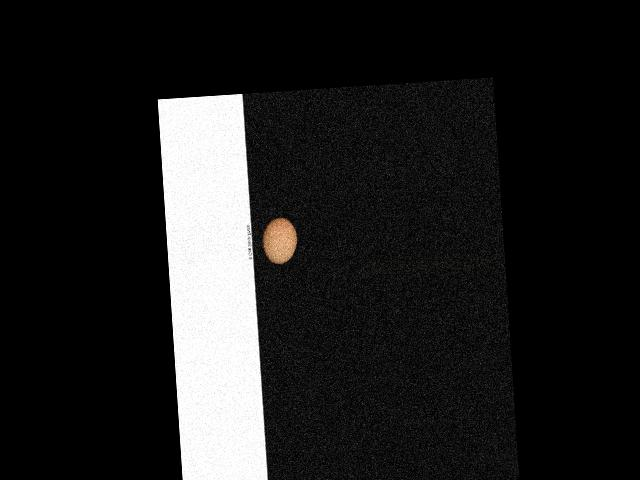egg: (260, 216, 298, 265)
